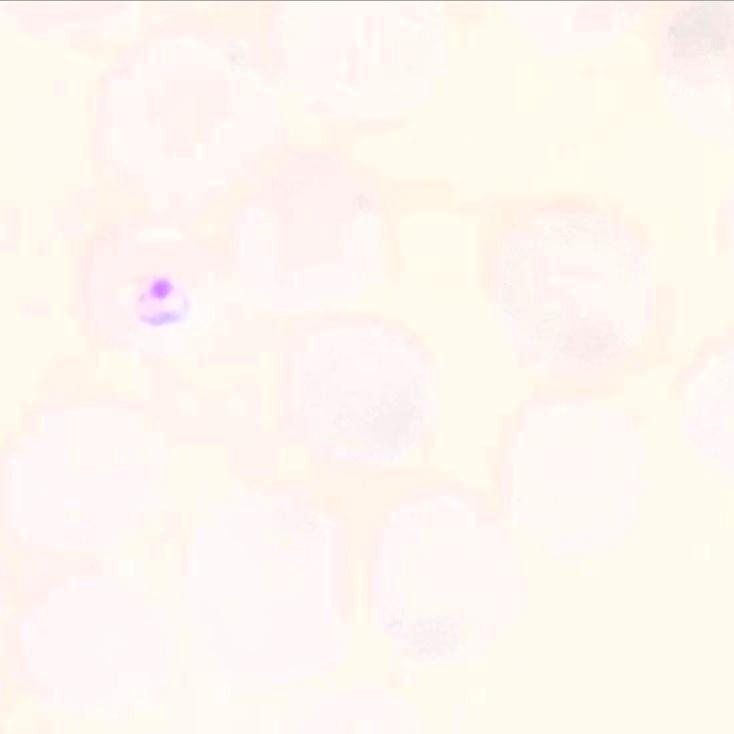Infected: (72, 211, 222, 365)
